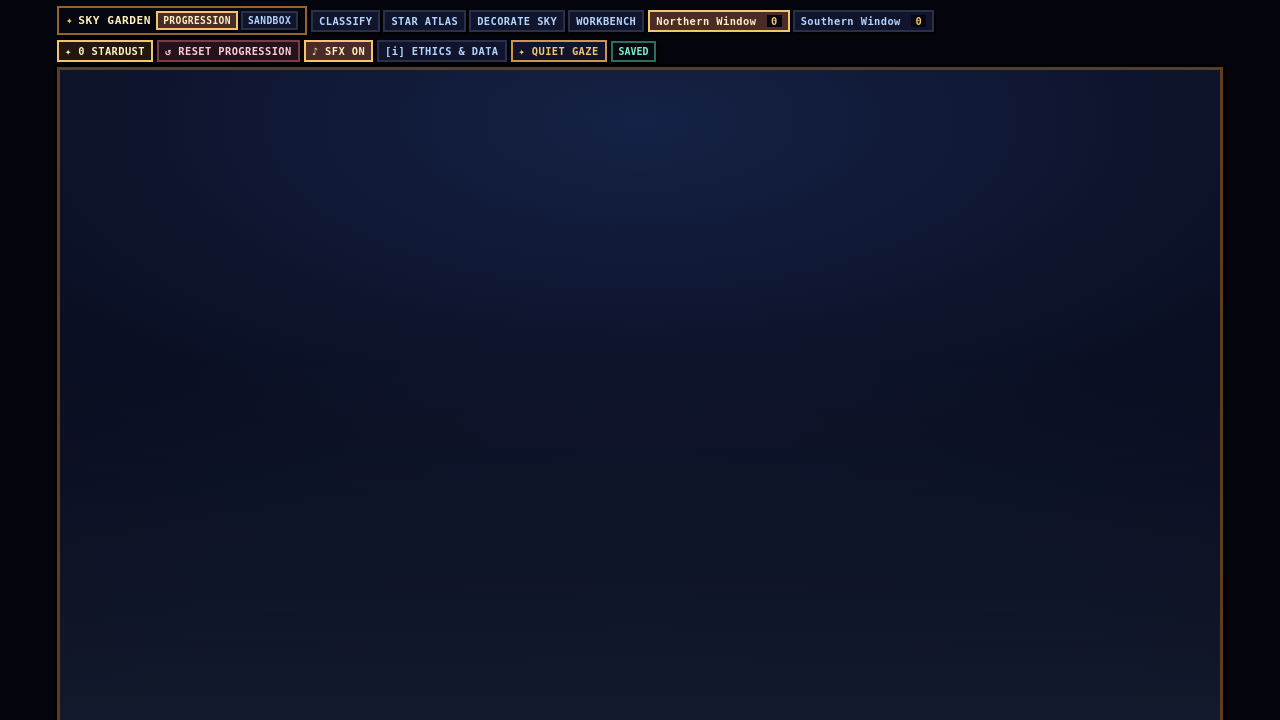
Scenario: Sky Garden Side-On Pixel Observatory Prototype › removes a placed galaxy at the Telescope without deleting it from the collection or altering source records
Click the button with test id "mode-sandbox-btn" at (269, 20), box [241,11,298,30]
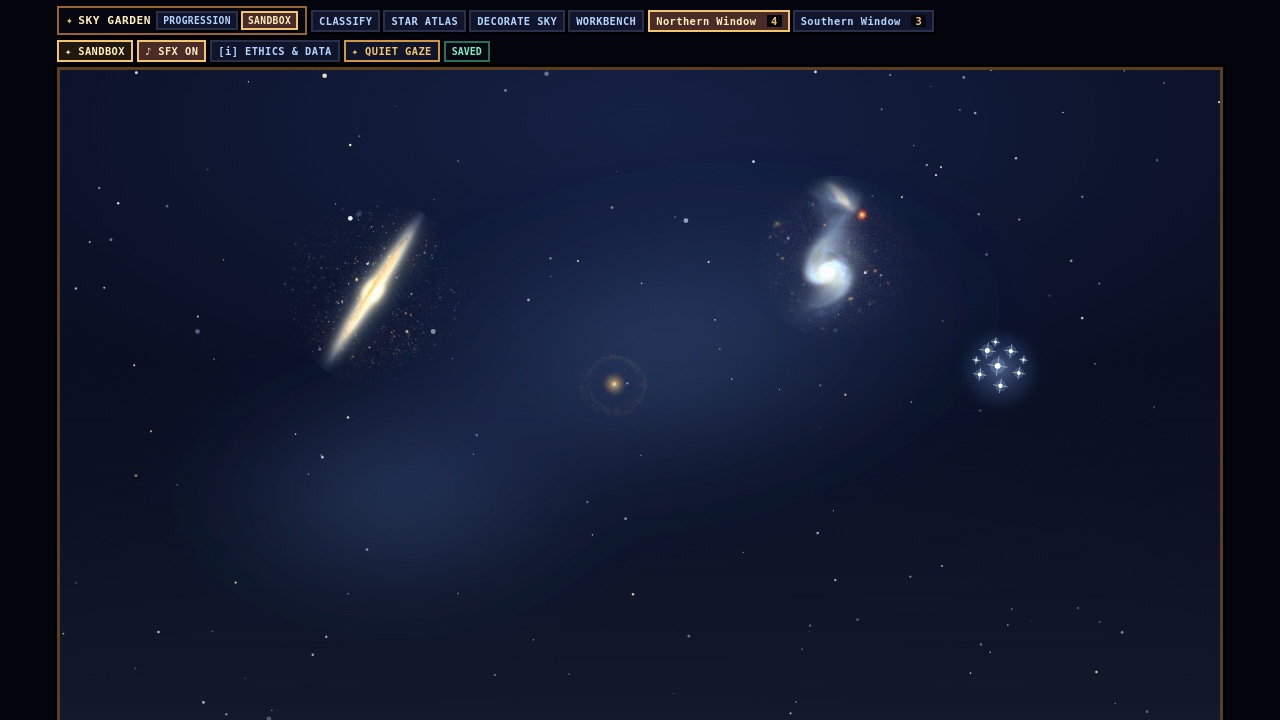
Click the button "DECORATE SKY" at (517, 20), box [469,10,565,32]
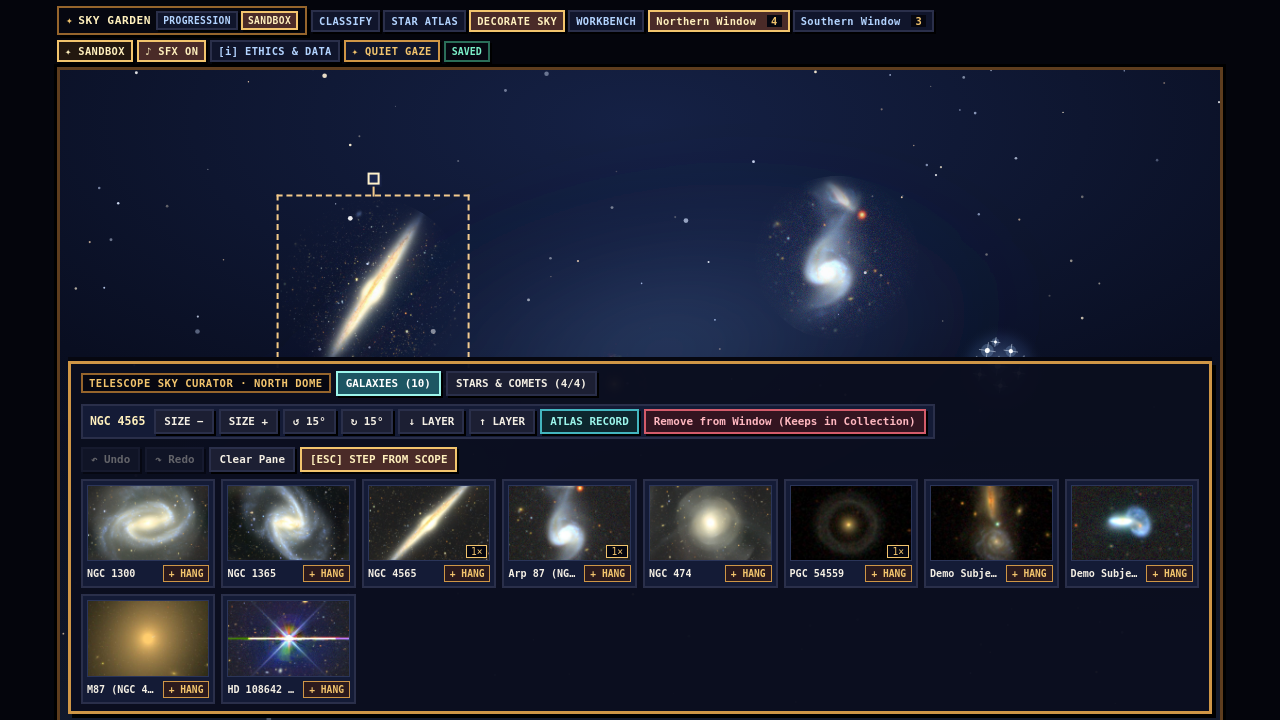
Click the button "Remove from Window (Keeps in Collection)" at (785, 421), box [644,409,926,434]
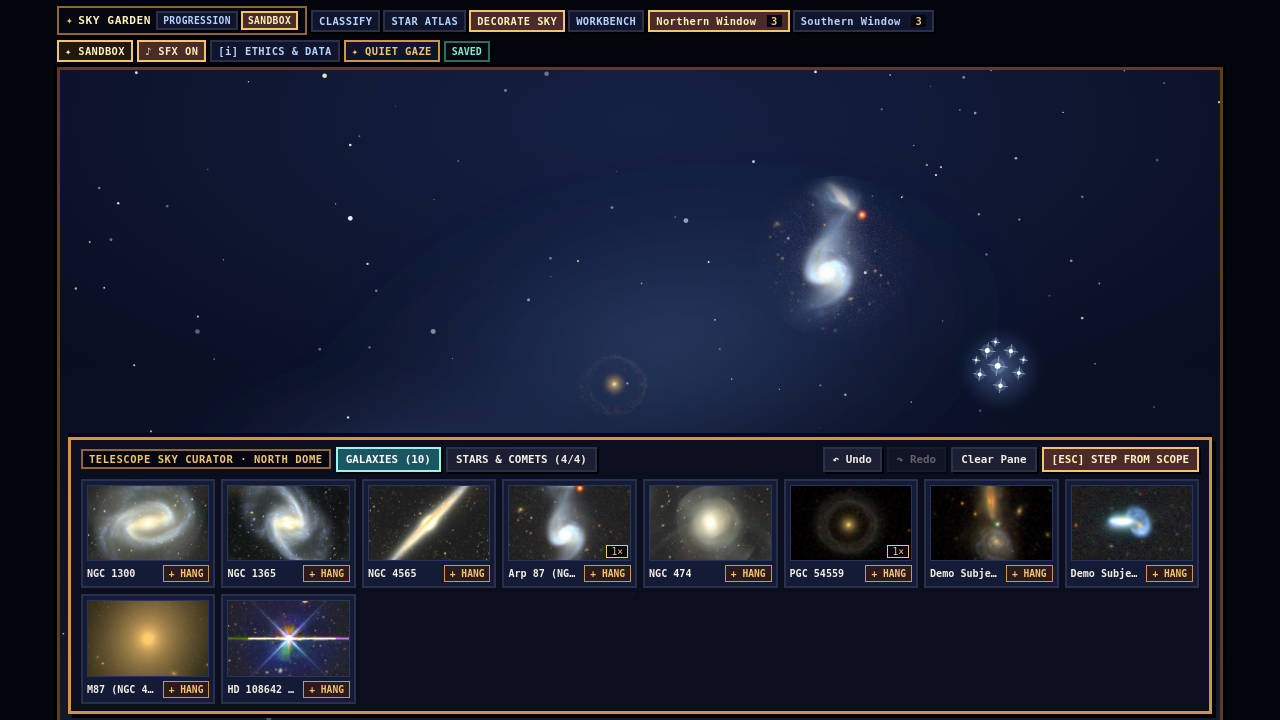
Check: the number of list items is 10
Check: the button "Northern Window 3" is shown, box [648,10,790,32]
Click the button "↶ Undo" at (852, 459), box [822,447,882,472]
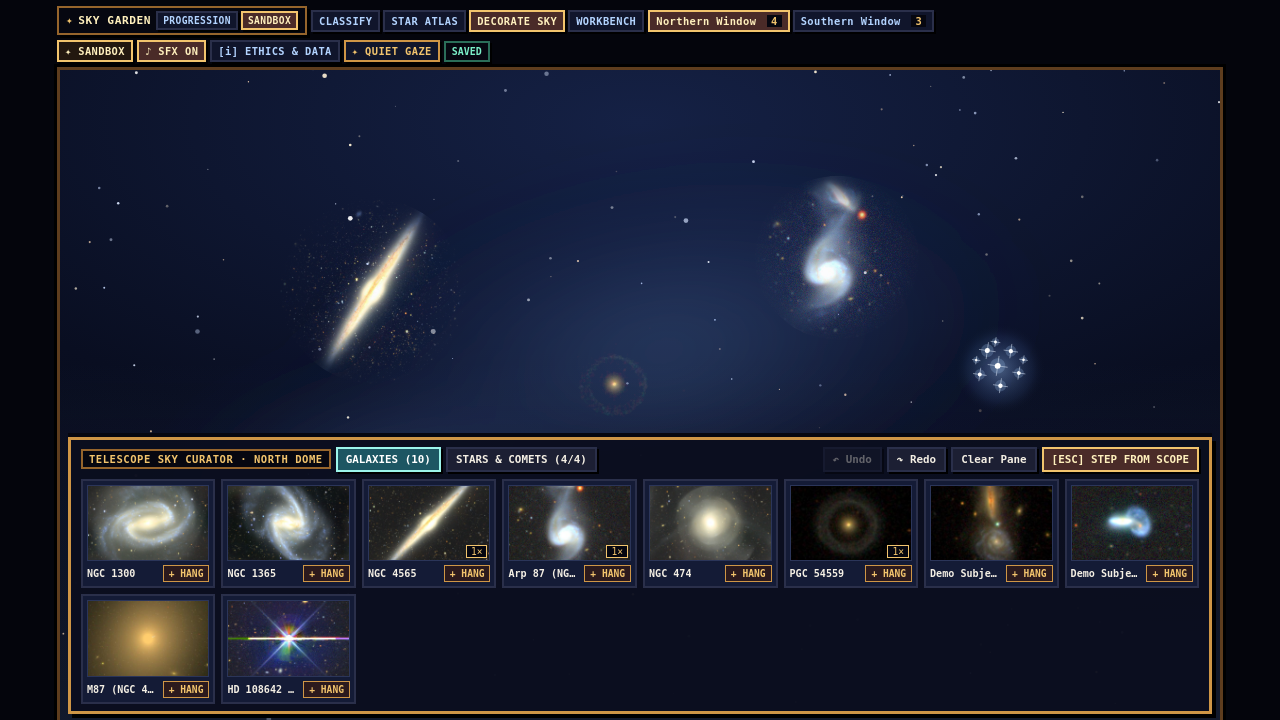
Check: the button "Northern Window 4" is shown, box [648,10,790,32]
